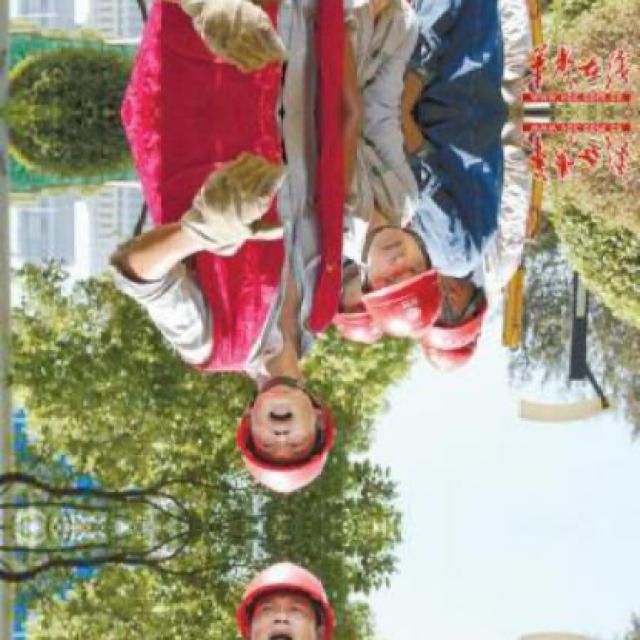con casco: (232, 335, 332, 524), (402, 242, 506, 360), (330, 231, 420, 346), (424, 329, 482, 377)
